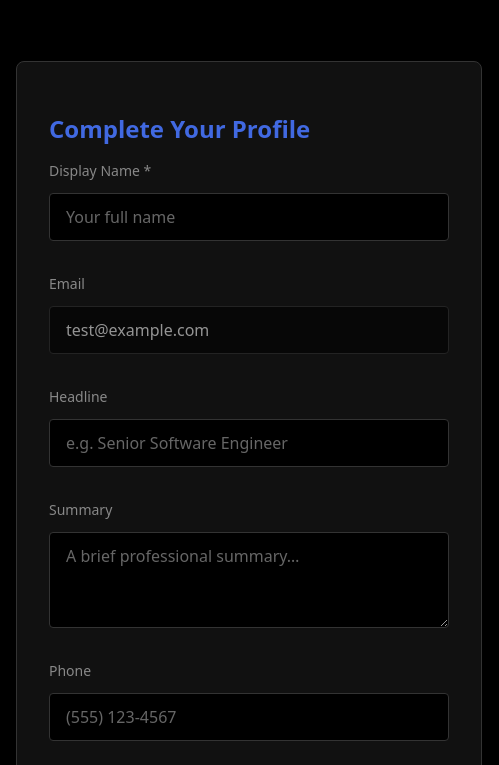
Test: CompleteProfile › should display error message on submission failure
Step 1. Type "Test User" into the field with test id "input-display-name" → (249, 217), box [49, 193, 449, 241]
(page scrolled)
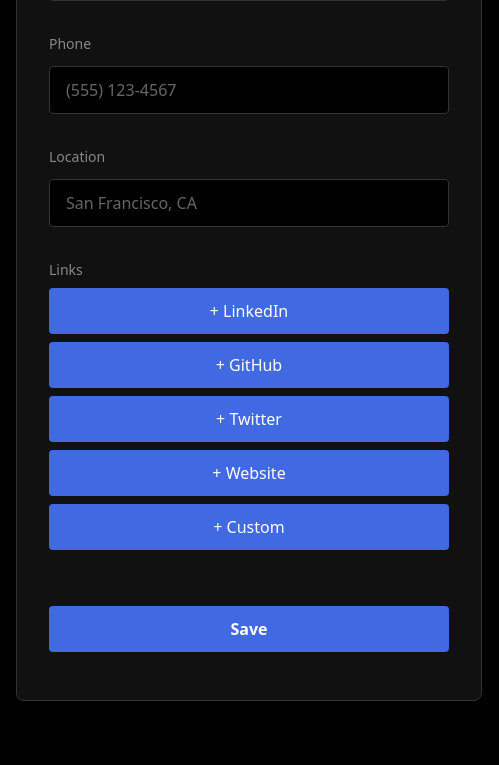
Step 2. Click the button with test id "btn-save-profile" → (249, 629), box [49, 606, 449, 652]
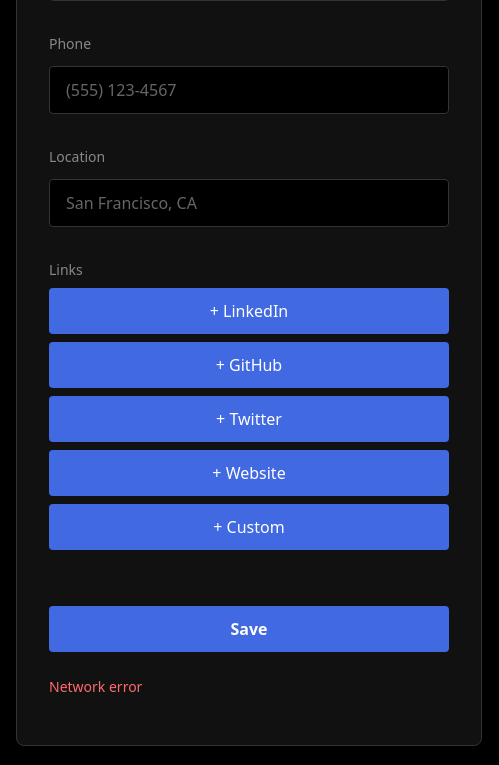
Check: the text "Network error" is shown, box [49, 677, 142, 696]
